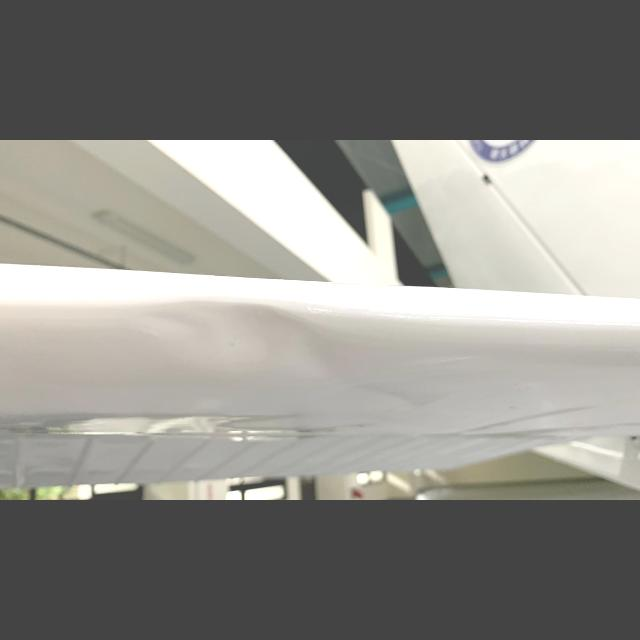dent: (104, 296, 352, 376)
